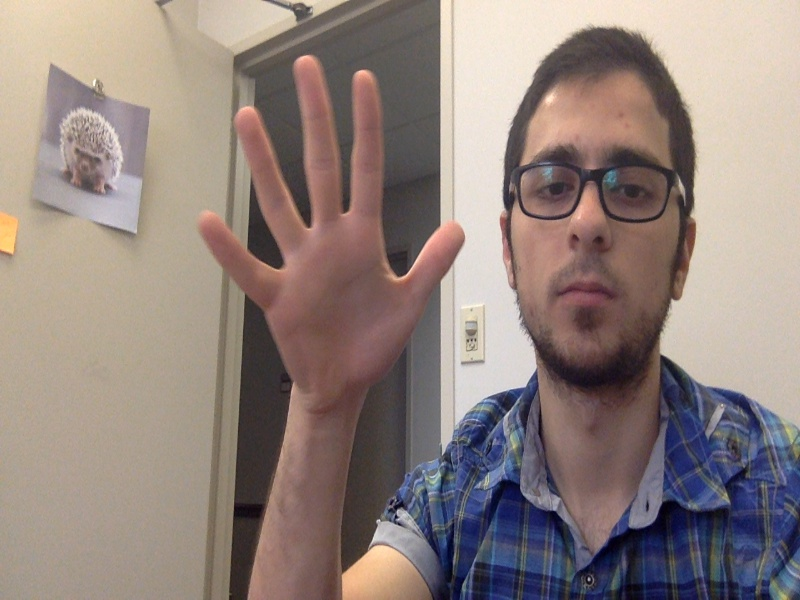5-hand: (195, 53, 466, 411)
